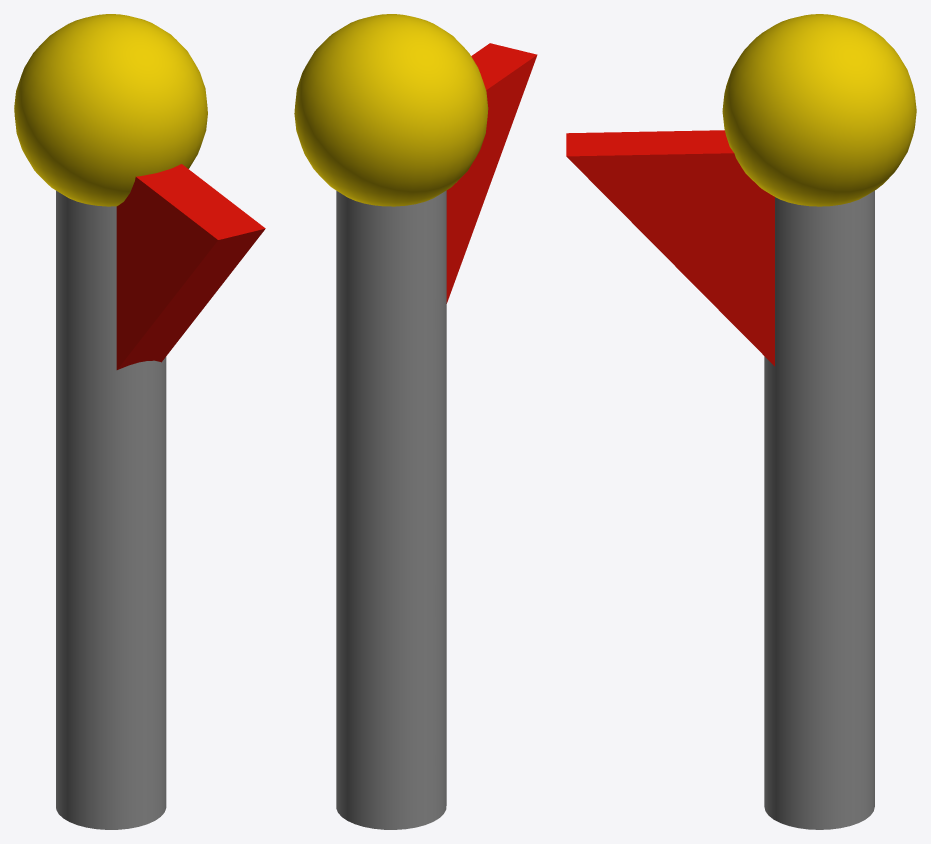
File: checkpoint.fbx
3 views of the same model, side by side, from view 1: azimuth 30°, elevation 25°; view 2: azimuth 150°, elevation 25°; view 3: azimuth 270°, elevation 25° (orthographic).
Visible parts, largest first — view 1: Cylinder, Sphere, Circle; view 2: Cylinder, Sphere, Circle; view 3: Cylinder, Sphere, Circle.
Boxes of the visible parts, x1,y1,x2,y2 form: Cylinder: (56,190,166,829); Sphere: (14,14,207,206); Circle: (116,164,265,369); Cylinder: (336,190,446,829); Sphere: (294,14,488,206); Circle: (446,43,537,303); Cylinder: (764,190,874,829); Sphere: (722,14,916,206); Circle: (566,130,774,366).
Size of the model in its own units: 119 by 530 by 215.
